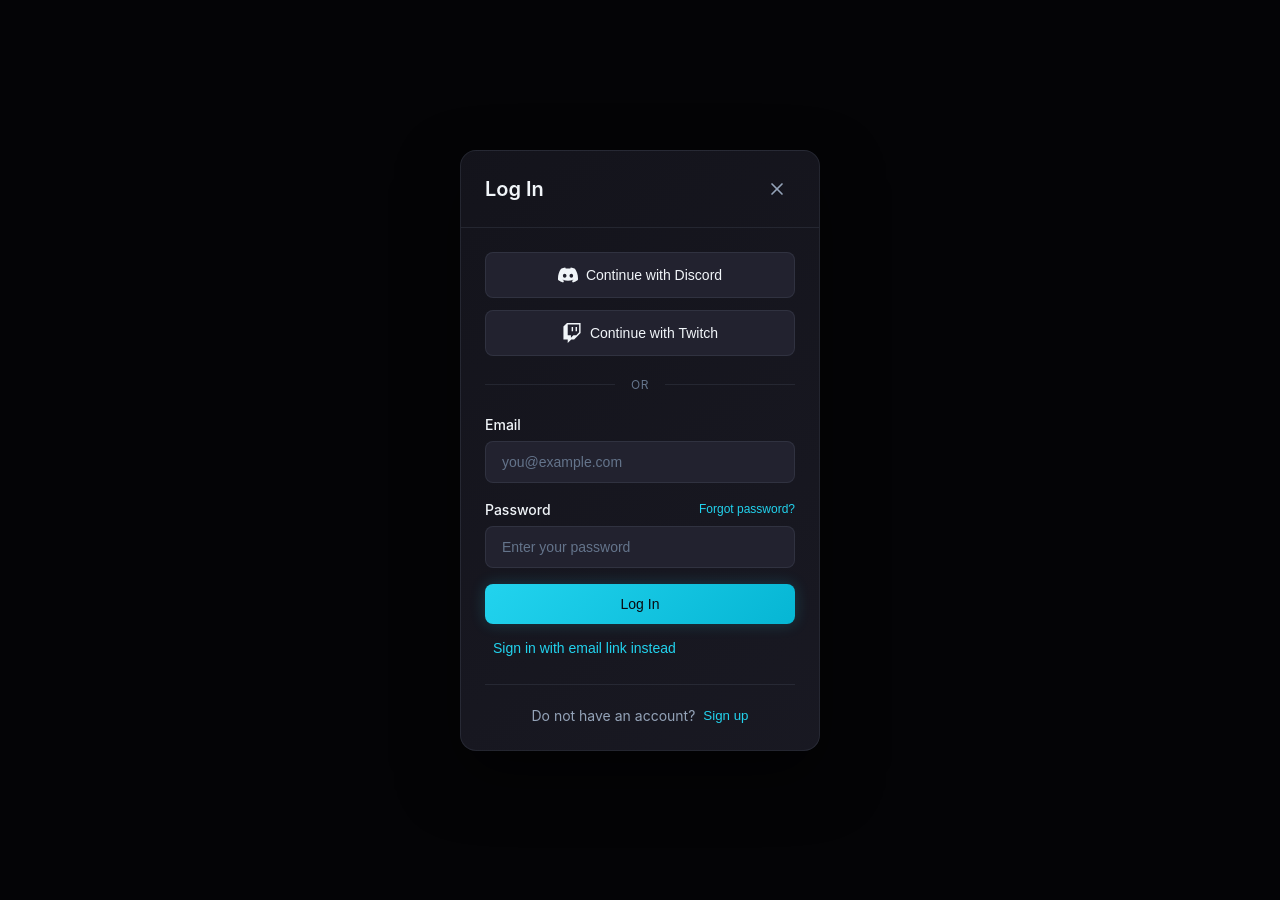
Test: LoginModal Component › should show magic link form when option is clicked
Click the button with test id "magic-link-option".
click(584, 648)  # box [485, 632, 684, 664]
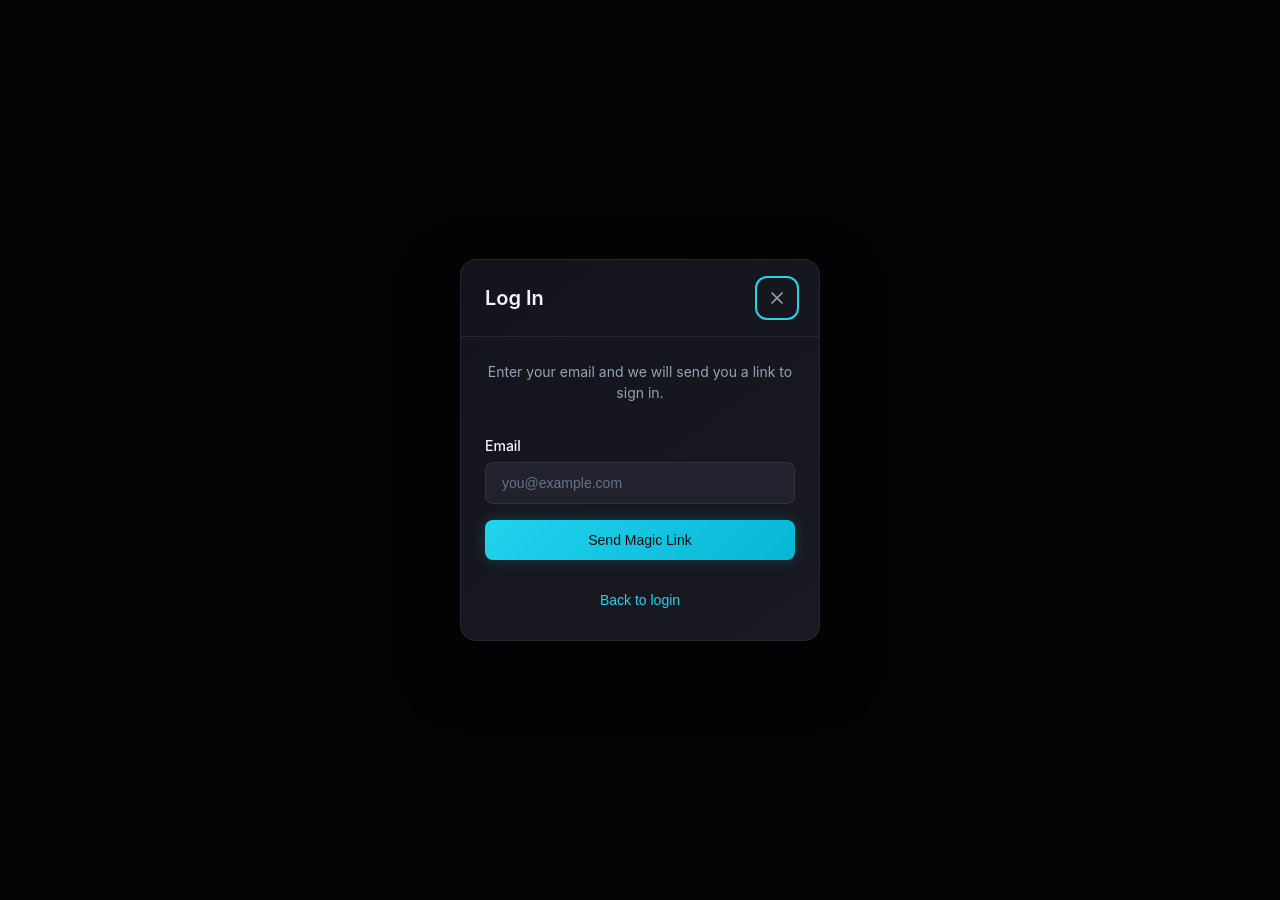
Result: the field with test id "magic-link-email-input" is shown at [485, 462, 795, 504]
Result: the button with test id "magic-link-submit" is shown at [485, 520, 795, 560]
